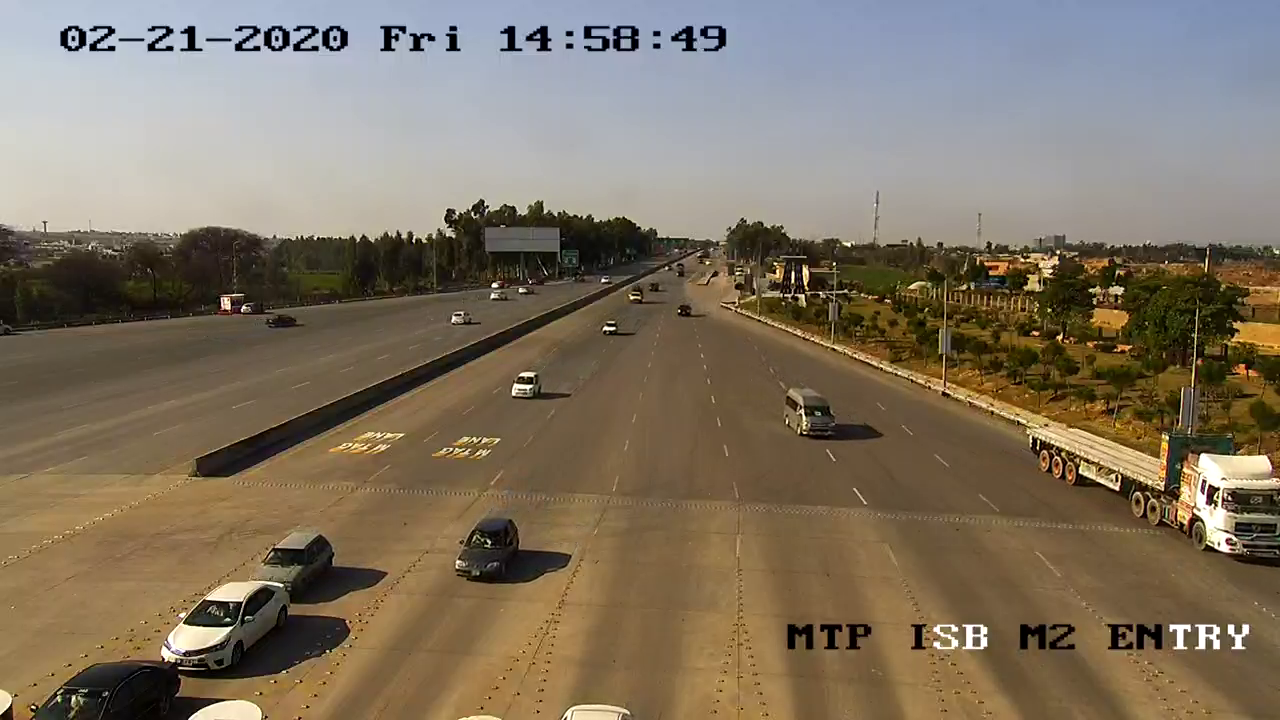f1: (143, 572, 303, 680), (437, 504, 532, 597), (239, 509, 342, 584)
f3: (777, 381, 842, 446)
f6: (1006, 406, 1280, 563)
